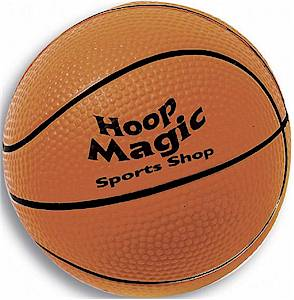basketball: (3, 1, 291, 300)
